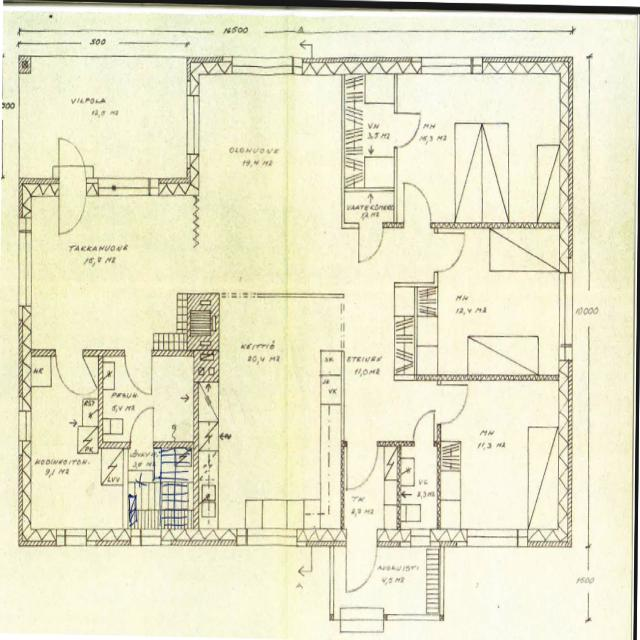door: (343, 542, 380, 598), (400, 176, 436, 232), (54, 351, 94, 400), (344, 444, 379, 494), (432, 230, 467, 275), (392, 107, 426, 152), (54, 133, 88, 176), (122, 355, 155, 398), (438, 383, 470, 426), (58, 192, 87, 238), (355, 222, 385, 266), (130, 406, 156, 445), (411, 408, 437, 443)
window: (556, 271, 576, 353), (15, 227, 34, 310), (94, 172, 152, 198), (466, 528, 522, 551), (90, 529, 128, 548), (141, 534, 162, 549)
zone: (201, 291, 340, 542), (20, 192, 181, 362), (397, 65, 566, 226), (436, 378, 556, 543), (19, 453, 112, 540), (342, 67, 394, 198), (128, 449, 200, 539), (153, 353, 205, 454), (395, 439, 440, 536)
